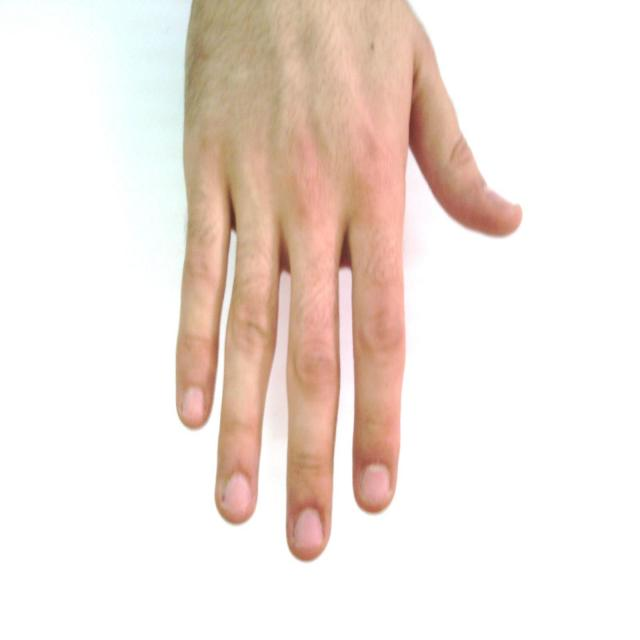others: (142, 1, 542, 573)
